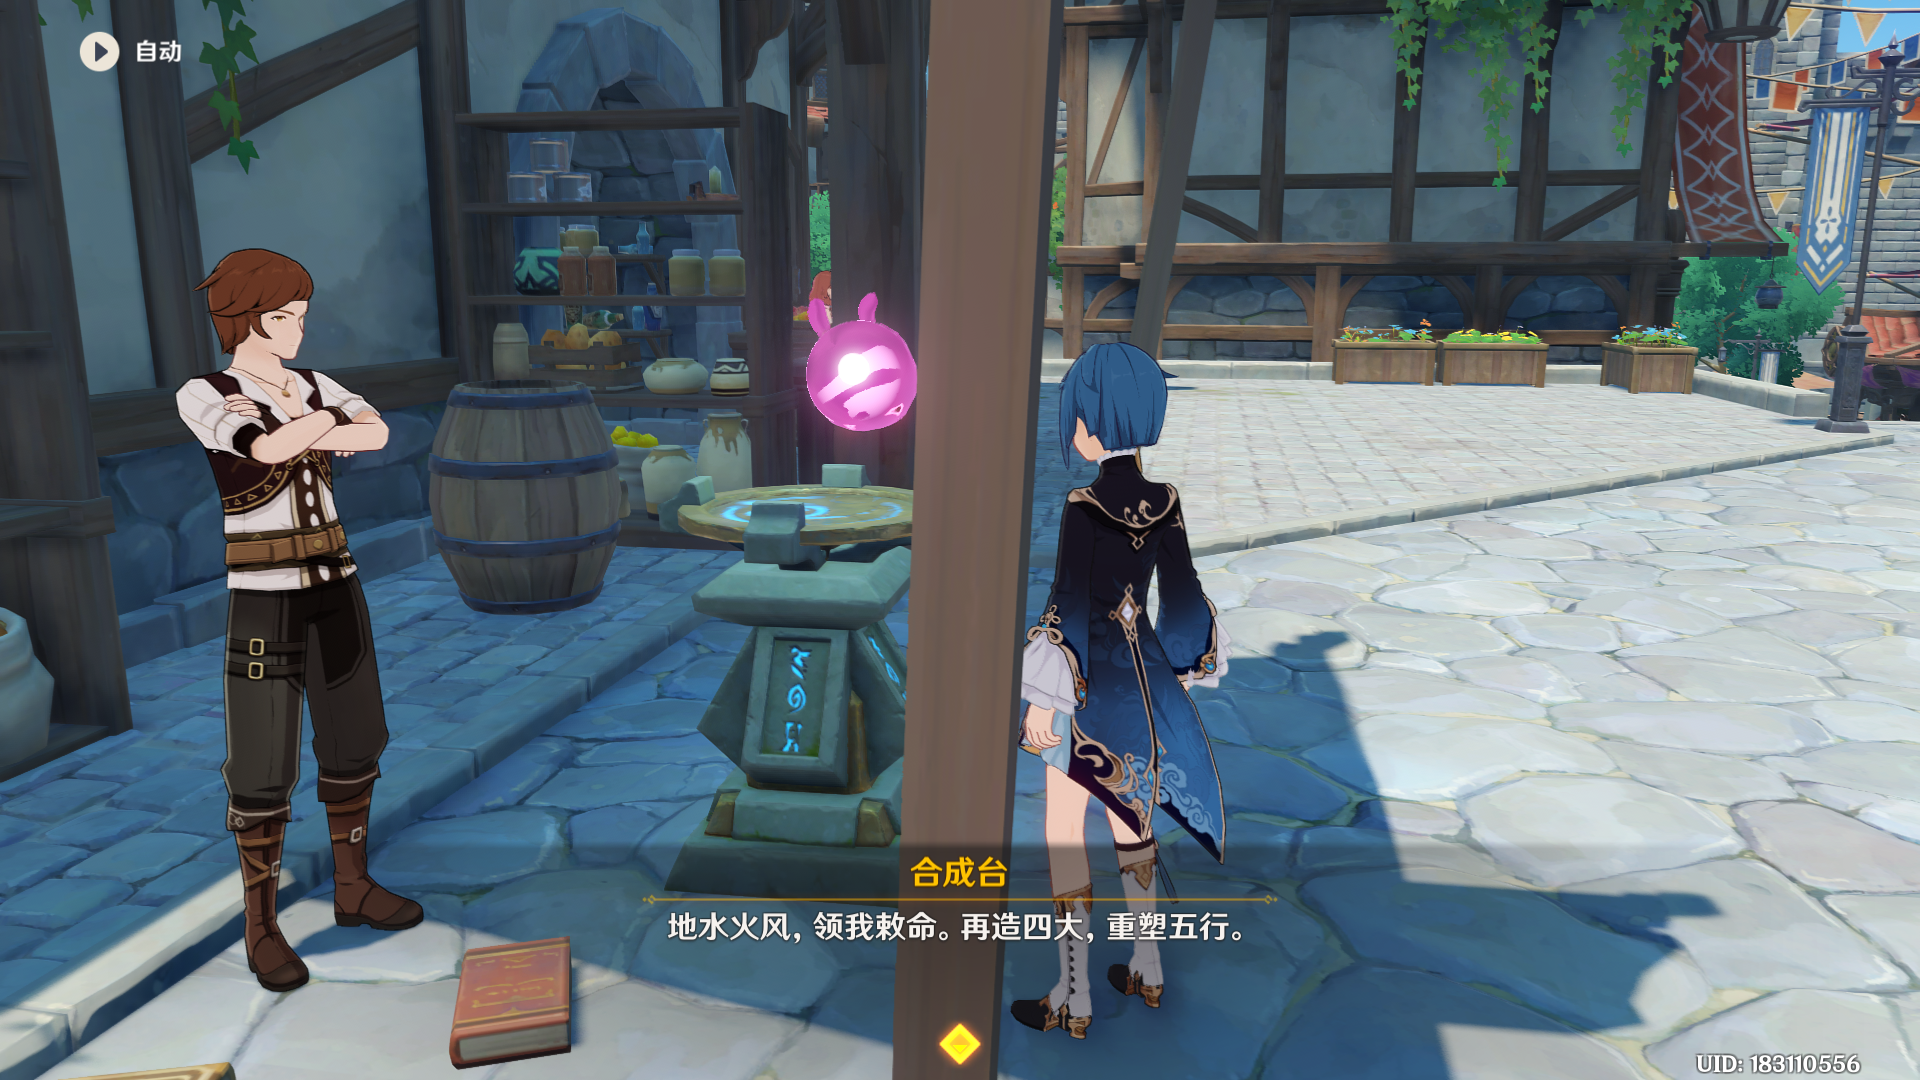character: (938, 291, 1247, 1035)
